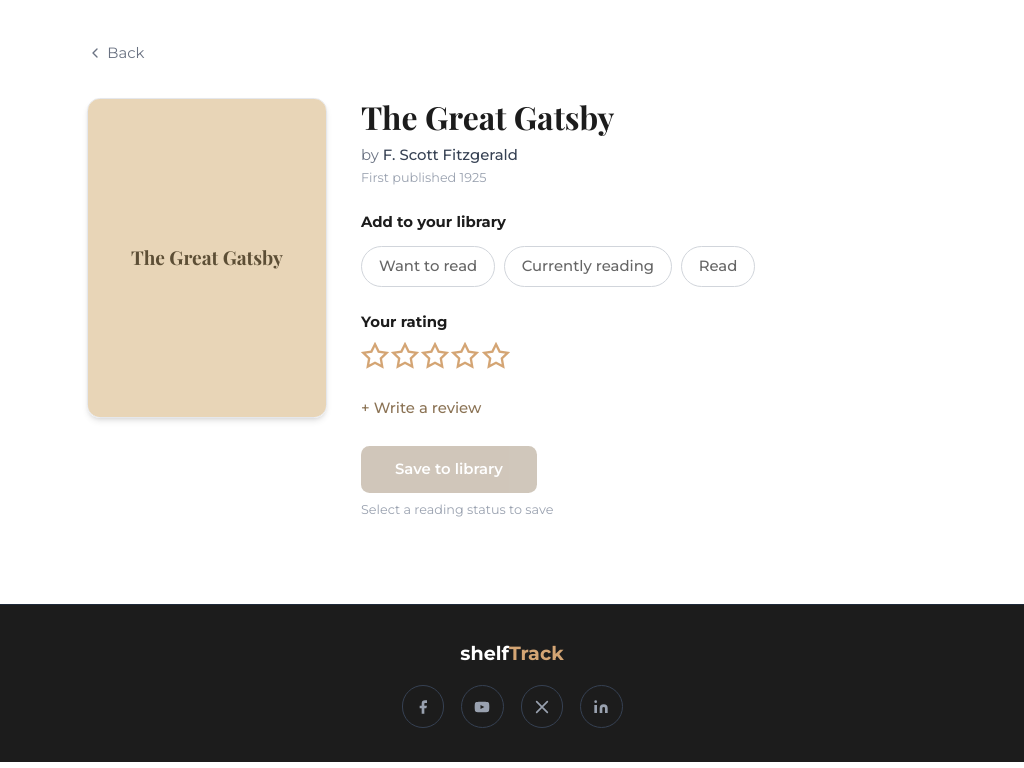
BookDetailPage › status selection › enables the Save button after a status is selected
Step 1. Click the button "Want to read" → [428, 267], box [361,246,495,287]
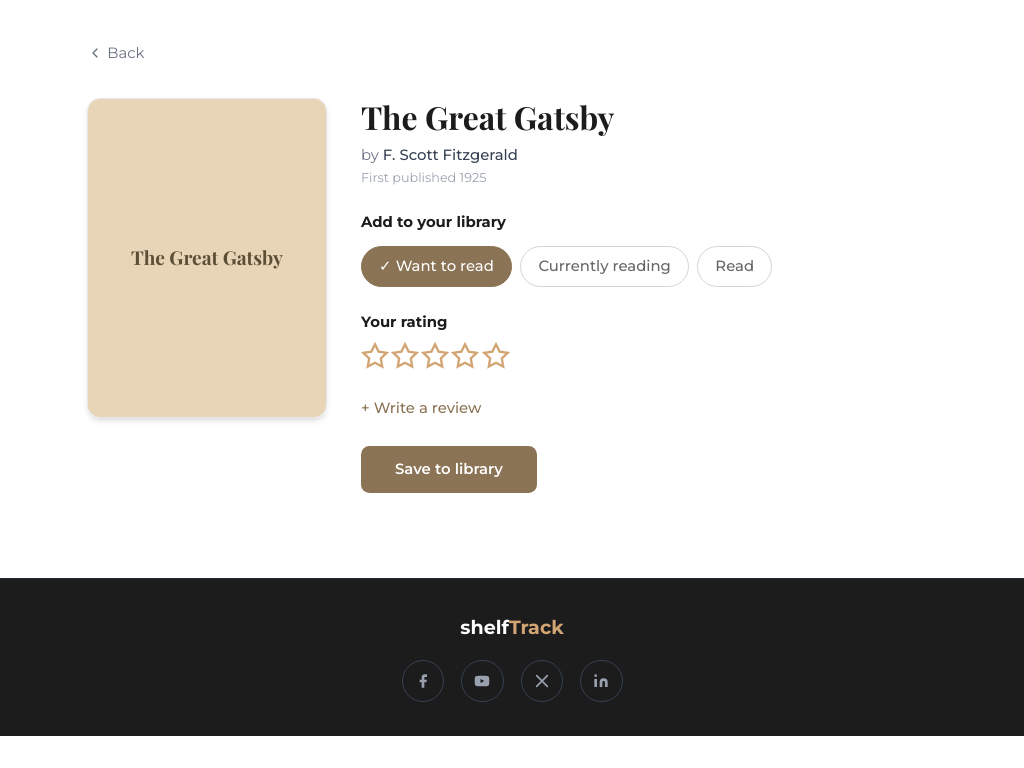
Expected: the button "Save to library" is enabled, [361,446,537,493]
